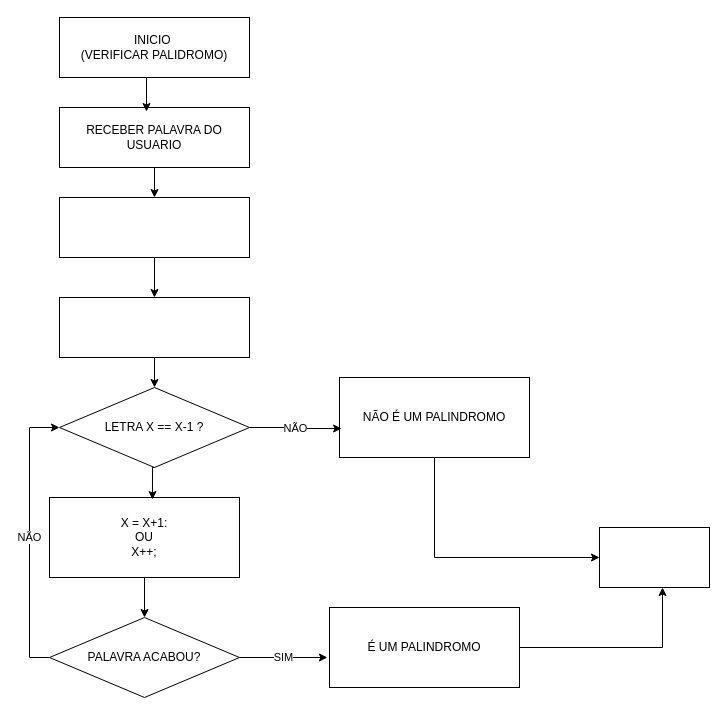
This 727x715 diagram has some shape labels left out. Here are the shapes that lost their labels. From the top down, the centre of each, then its label:
At point 154,227: "QUEBRAR A PALAVRA POR LETRA (ARRAY DE LETRA)".
At point 154,327: "X = 1 (PRIMEIRA LETRA)".
At point 654,557: "FIM".
